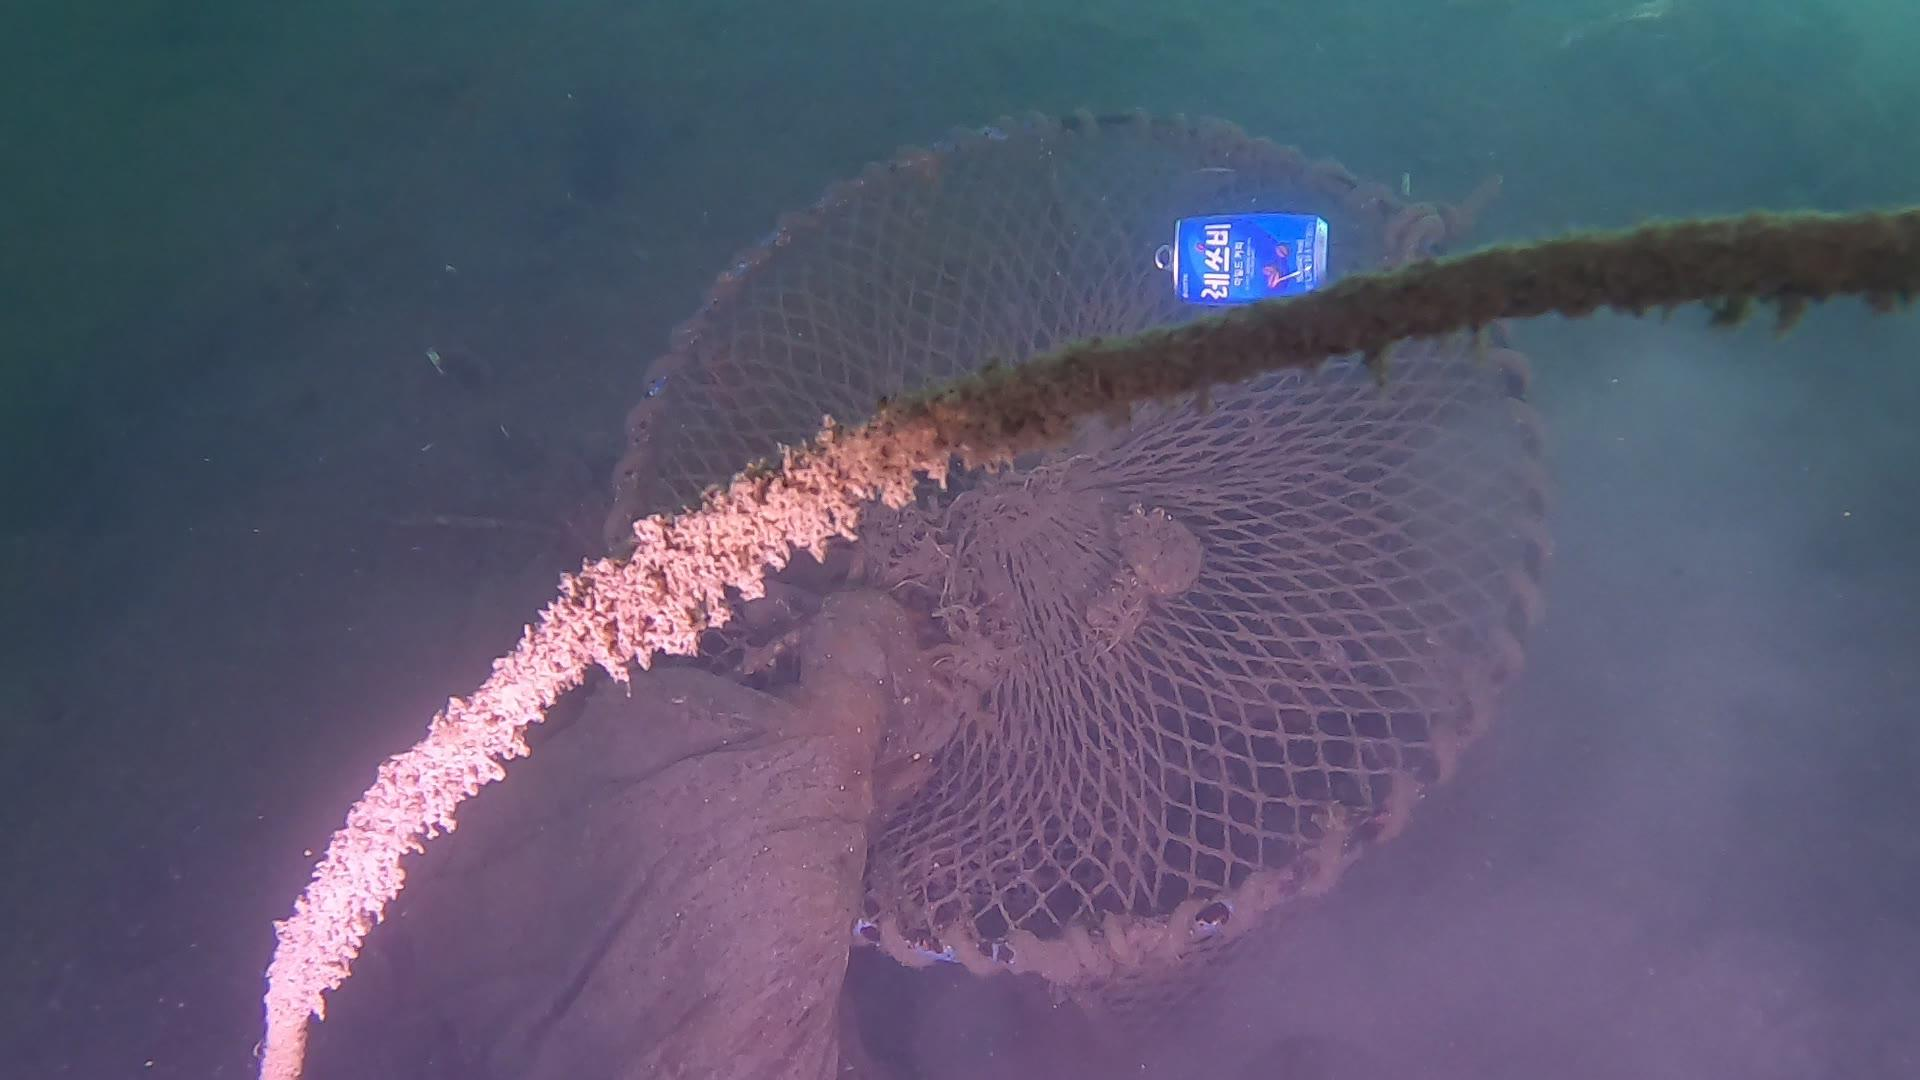circular fish trap: (608, 109, 1568, 965)
rope: (239, 189, 1920, 1080)
